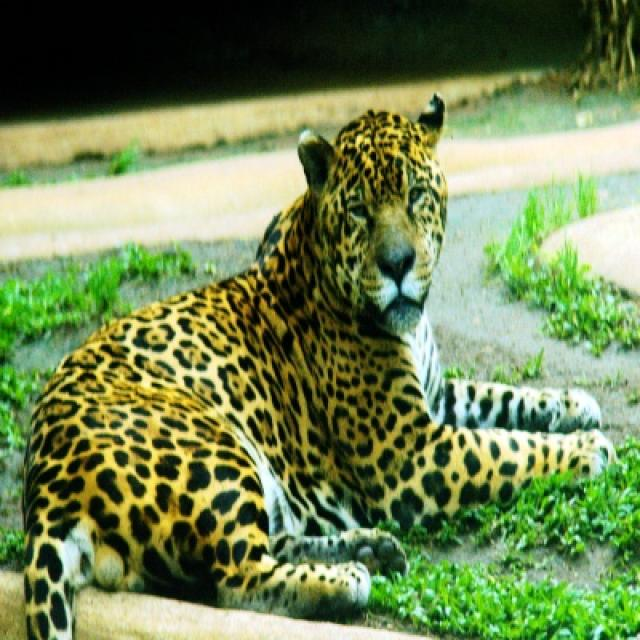Jaguar: (21, 94, 616, 638)
